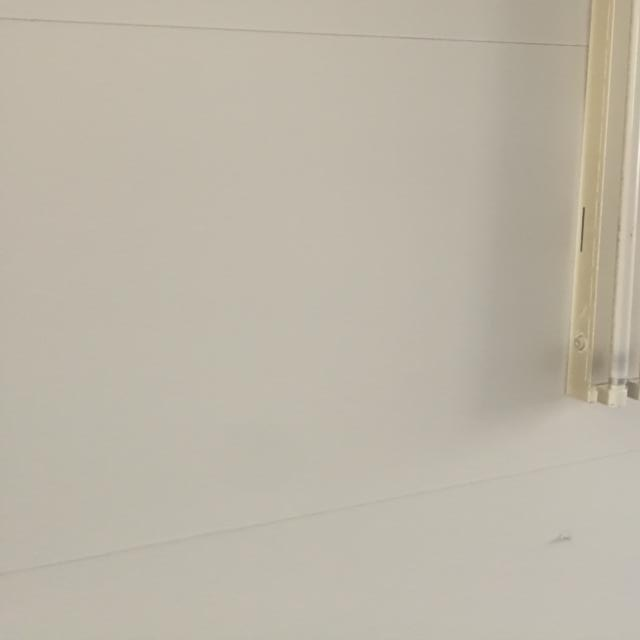fluorescent tube: (544, 0, 640, 445)
